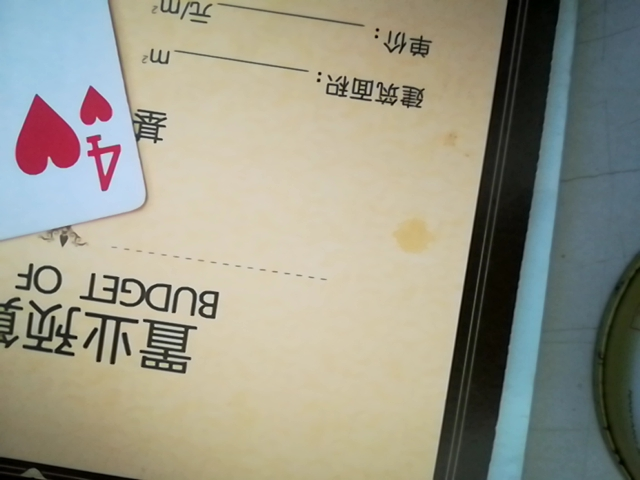hx 4: (0, 0, 152, 285)
